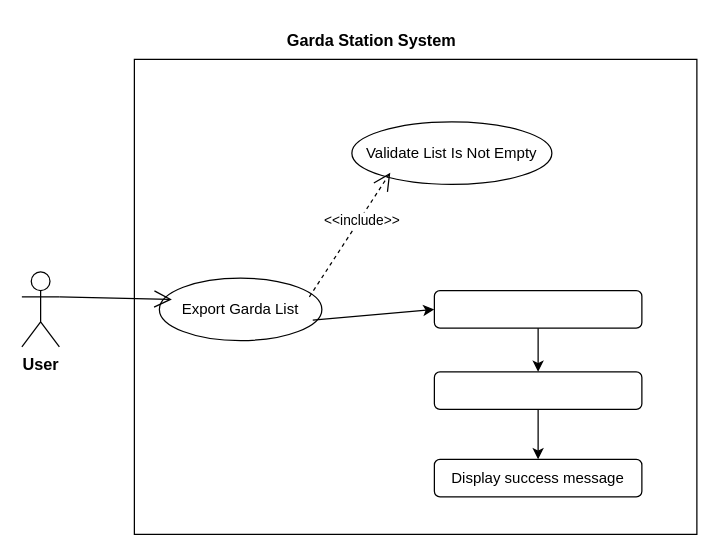
Some shapes in this 719 by 556 pixel diagram are drawn without their labels. The box of each missing label's shape, as (x1, y1, x2, y2) in pixels:
Create Garda_Report.txt: (433, 289, 642, 328)
Write all records: (433, 371, 642, 409)
